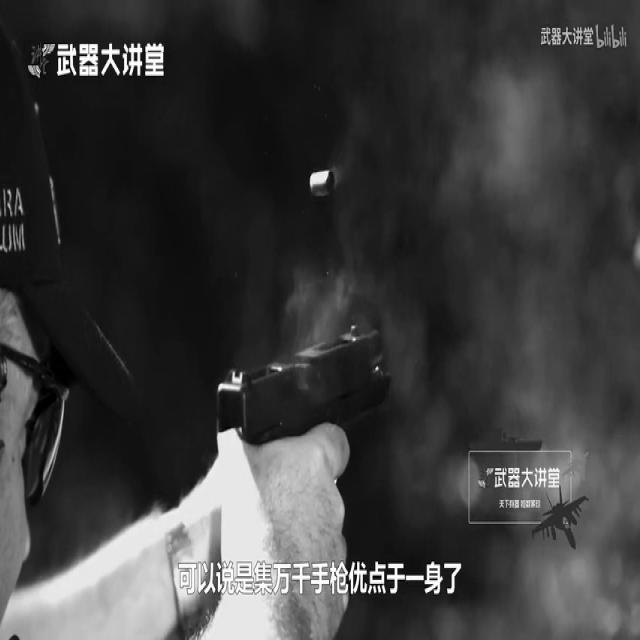Hand-Gun: (166, 229, 473, 640)
